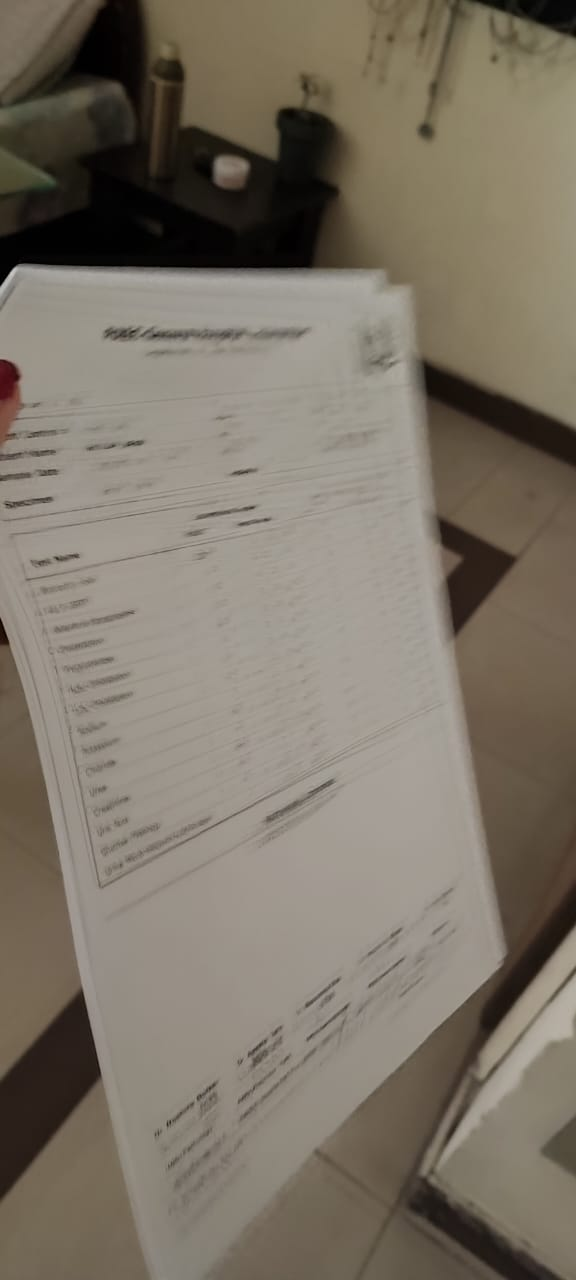report: (14, 469, 452, 891)
